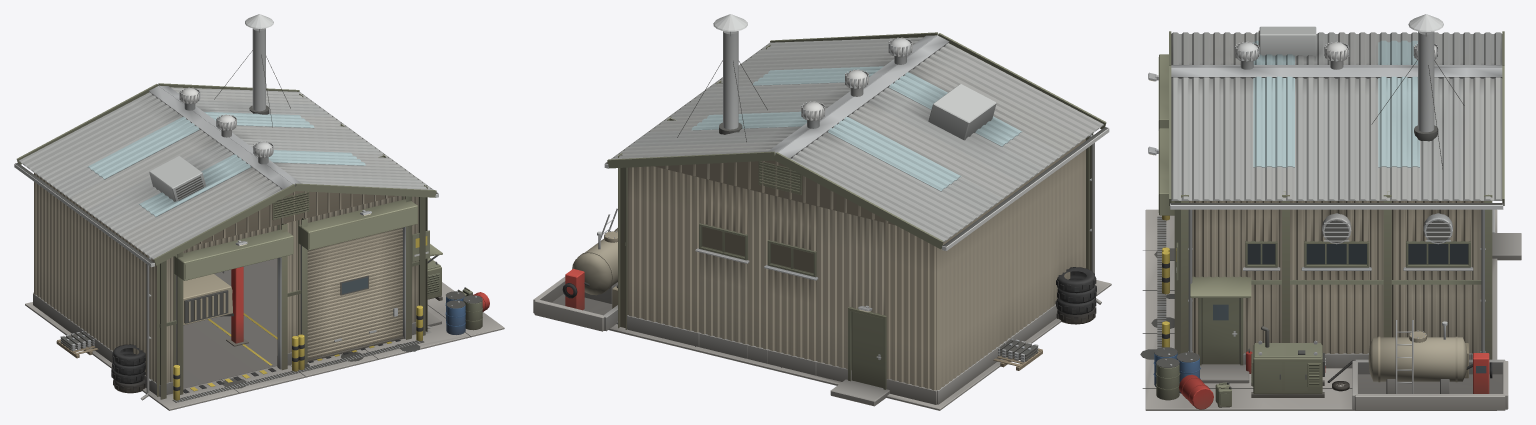
The model's file is struct_factory_usa.glb.
The picture shows the model from 3 angles, left to right: view 1: azimuth 30°, elevation 25°; view 2: azimuth 150°, elevation 25°; view 3: azimuth 270°, elevation 25°; orthographic projection. The views are drawn at different scales.
Visible parts, largest first — view 1: struct_factory_usa; view 2: struct_factory_usa; view 3: struct_factory_usa.
Boxes of the visible parts, x1=… form: struct_factory_usa: x1=14, y1=14, x2=504, y2=410; struct_factory_usa: x1=533, y1=14, x2=1111, y2=410; struct_factory_usa: x1=1140, y1=14, x2=1521, y2=410.
Bounding box in the file's own units: 12.46 × 8.7 × 9.38.
